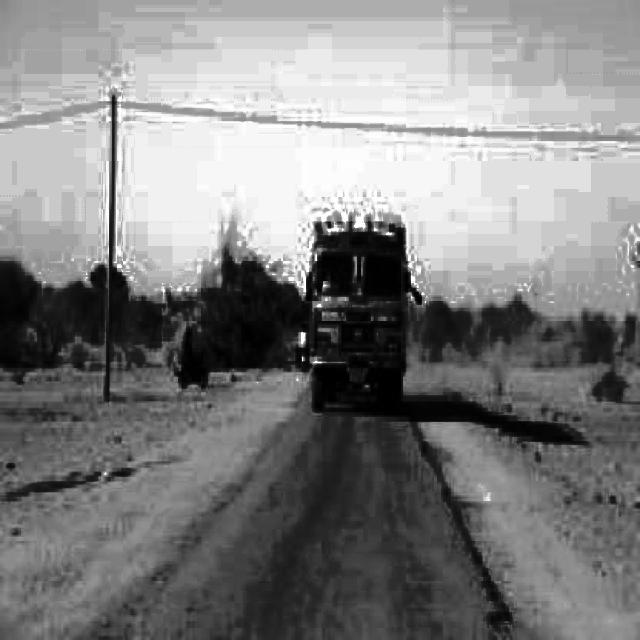HCV: (322, 223, 418, 411)
